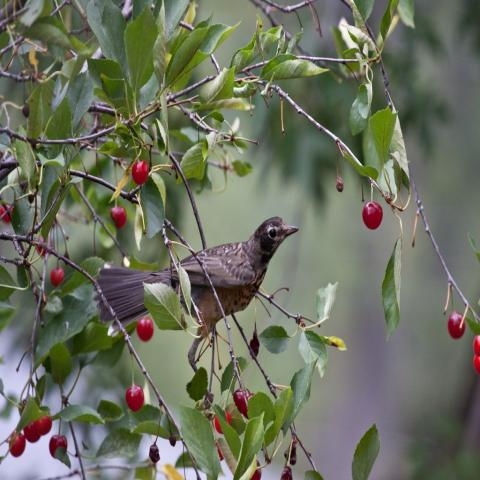bird: (92, 213, 300, 346)
